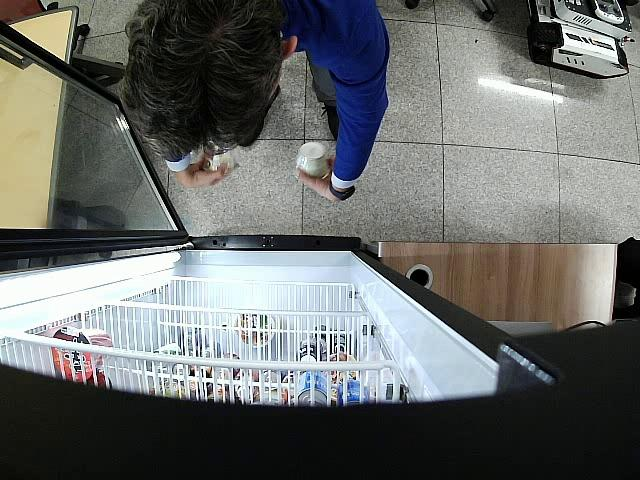00_hand: (294, 159, 334, 202), (189, 156, 227, 187)
04_chapagetti_S: (295, 142, 330, 179), (203, 146, 236, 171)
